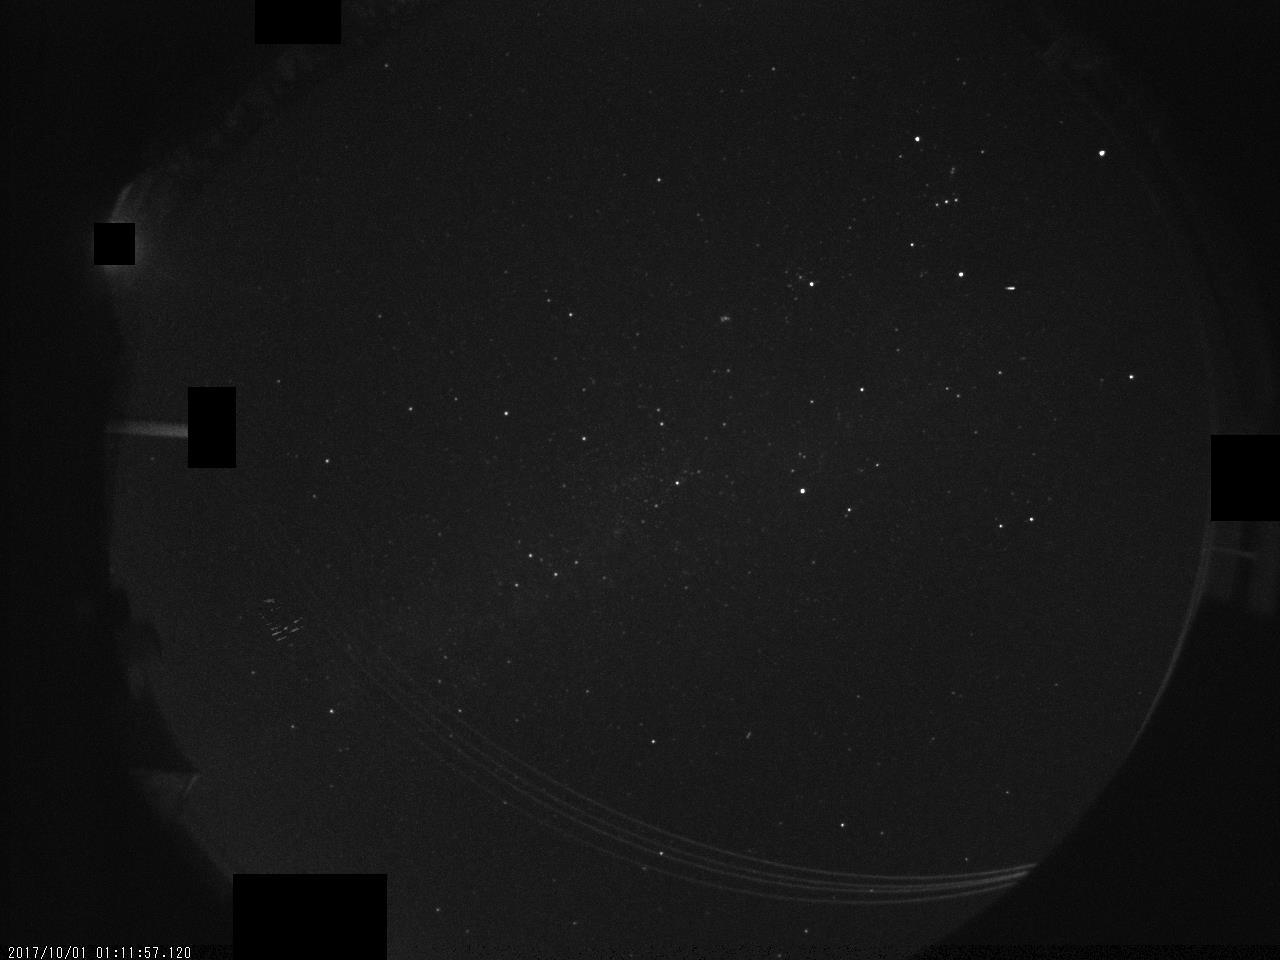TLE: (250, 595, 315, 646)
